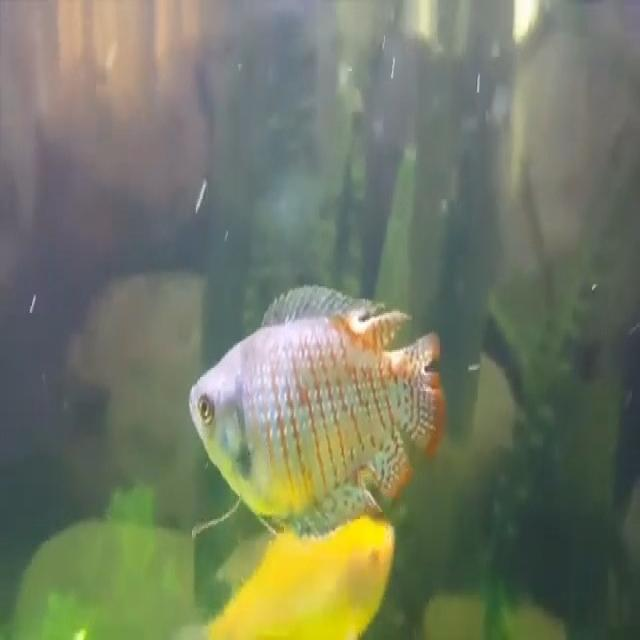fish: (190, 284, 447, 538), (199, 521, 416, 640)
